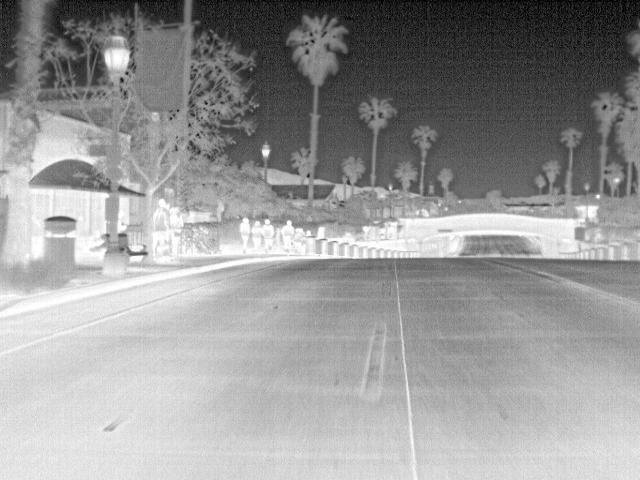person: (151, 196, 174, 231), (279, 217, 298, 255), (238, 215, 255, 250), (261, 218, 274, 253)
